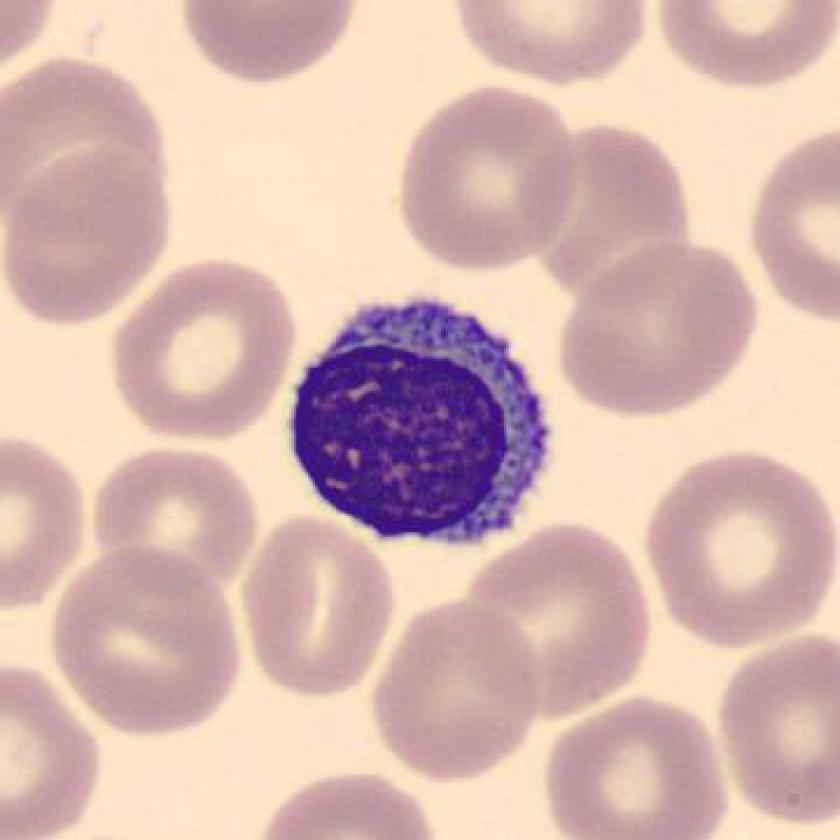lymphocyte: (267, 281, 584, 556)
